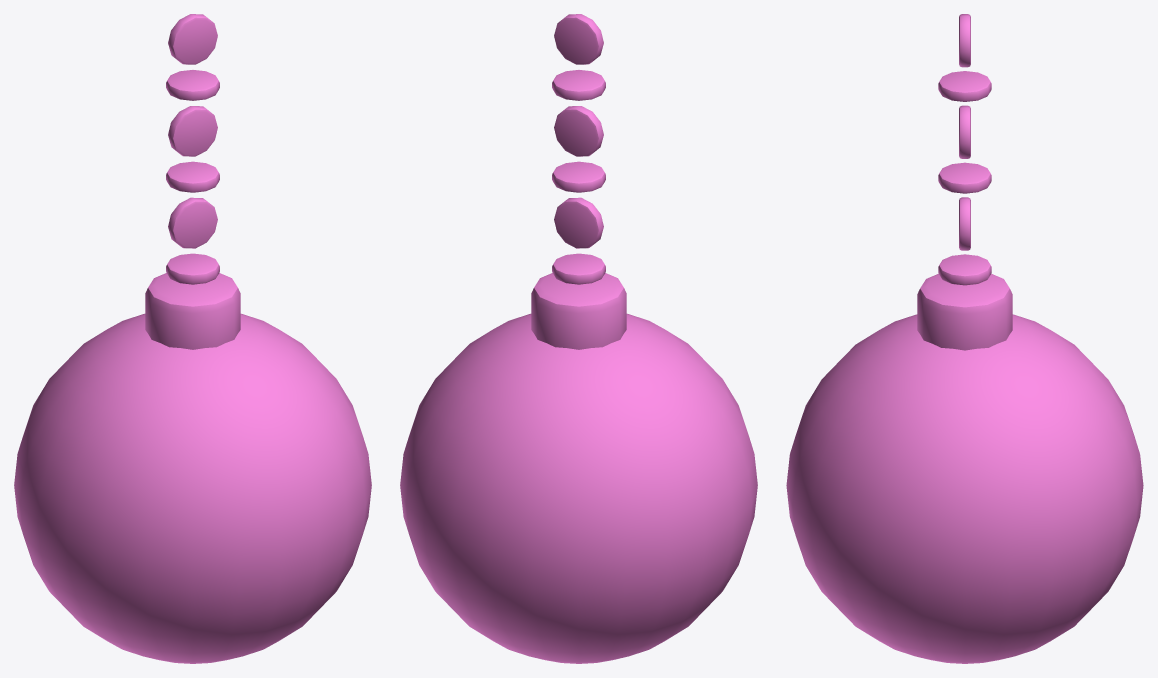
The model's file is Site_WreckingBall.fbx.
3 views of the same model, side by side, from view 1: azimuth 30°, elevation 25°; view 2: azimuth 150°, elevation 25°; view 3: azimuth 270°, elevation 25° (orthographic).
Visible parts, largest first — view 1: WreckingBall; view 2: WreckingBall; view 3: WreckingBall.
Part boxes in pixels (bbox=[...]): WreckingBall: bbox=[14, 14, 371, 663]; WreckingBall: bbox=[400, 14, 757, 663]; WreckingBall: bbox=[786, 14, 1143, 663].
Size of the model in its own units: 6 by 11.7 by 6.
1 material, 1 textured.
